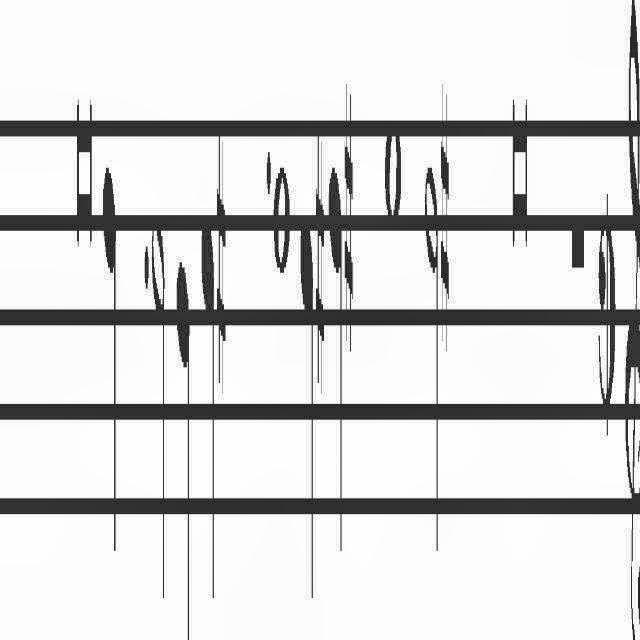Bass-clef: (620, 0, 640, 640)
Diez: (216, 128, 228, 402), (440, 69, 450, 353), (343, 79, 353, 354), (315, 118, 325, 390)
Full-note: (384, 114, 402, 226), (274, 161, 290, 285)
Half-note: (424, 152, 440, 564), (150, 204, 166, 616)
Quarter-note: (102, 152, 118, 568), (200, 214, 216, 622), (300, 213, 316, 614), (176, 252, 192, 640), (328, 149, 342, 569)
